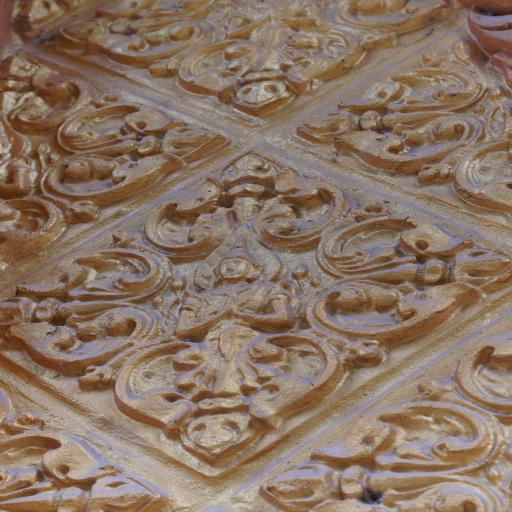la: (114, 324, 352, 466), (317, 203, 512, 347), (280, 392, 507, 512), (0, 242, 181, 384), (304, 44, 488, 177), (144, 148, 356, 262), (0, 382, 175, 512), (48, 93, 225, 205), (170, 32, 366, 114), (67, 0, 218, 68), (0, 51, 103, 140), (436, 314, 512, 418), (0, 194, 104, 269), (333, 0, 472, 44)
than: (156, 220, 308, 366), (0, 120, 50, 217), (220, 0, 332, 40)
